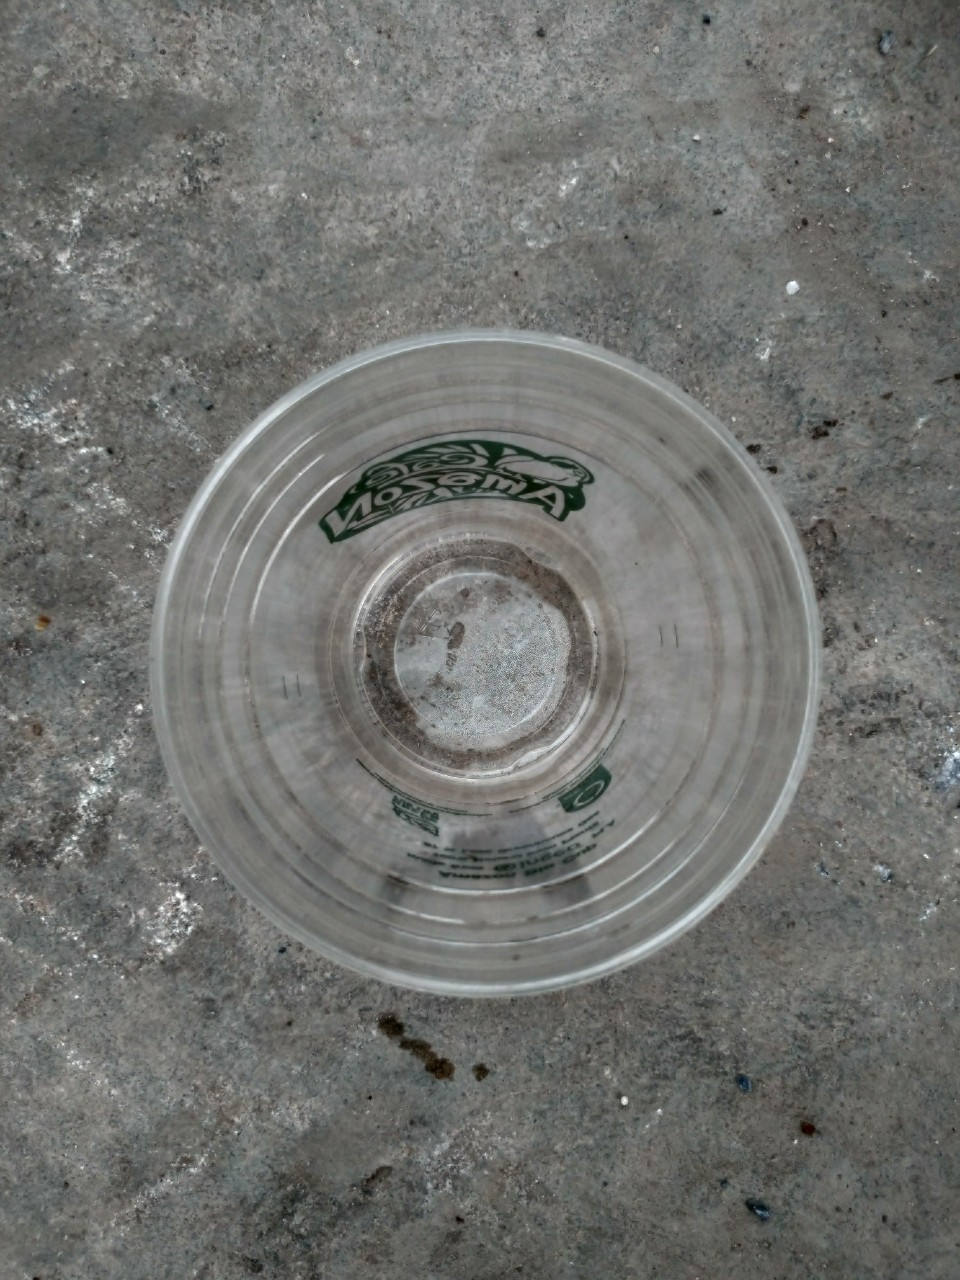PlasticCup: (159, 335, 816, 1000)
